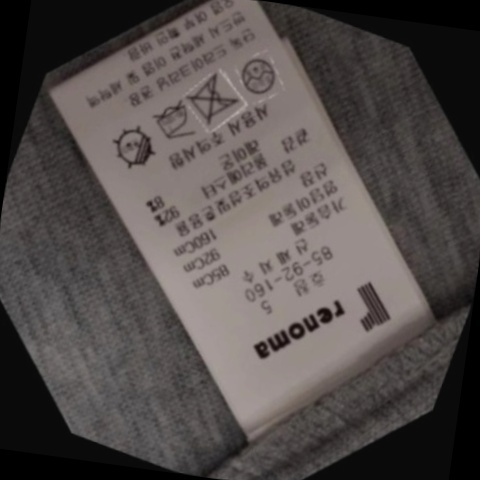DN_wash: (179, 67, 252, 134)
dry_clean_petrol_only: (232, 47, 290, 104)
iron_low: (141, 92, 206, 152)
line_dry_in_shade: (103, 118, 172, 181)
